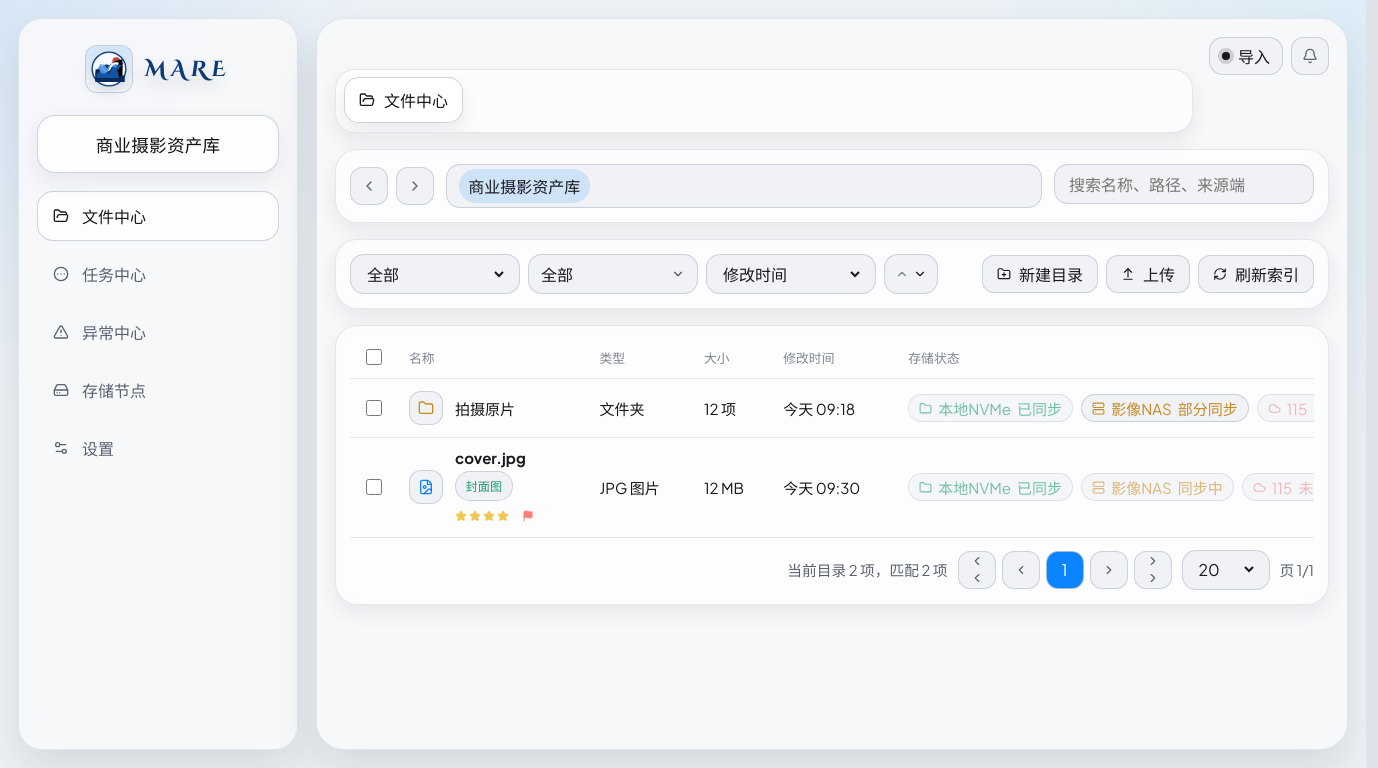
Test: App 集成流程 › 任务中心默认使用活跃中状态筛选
This screenshot has width=1378, height=768.
Click the button "任务中心" at {"x": 158, "y": 274}, box 37,249 -> 279,299
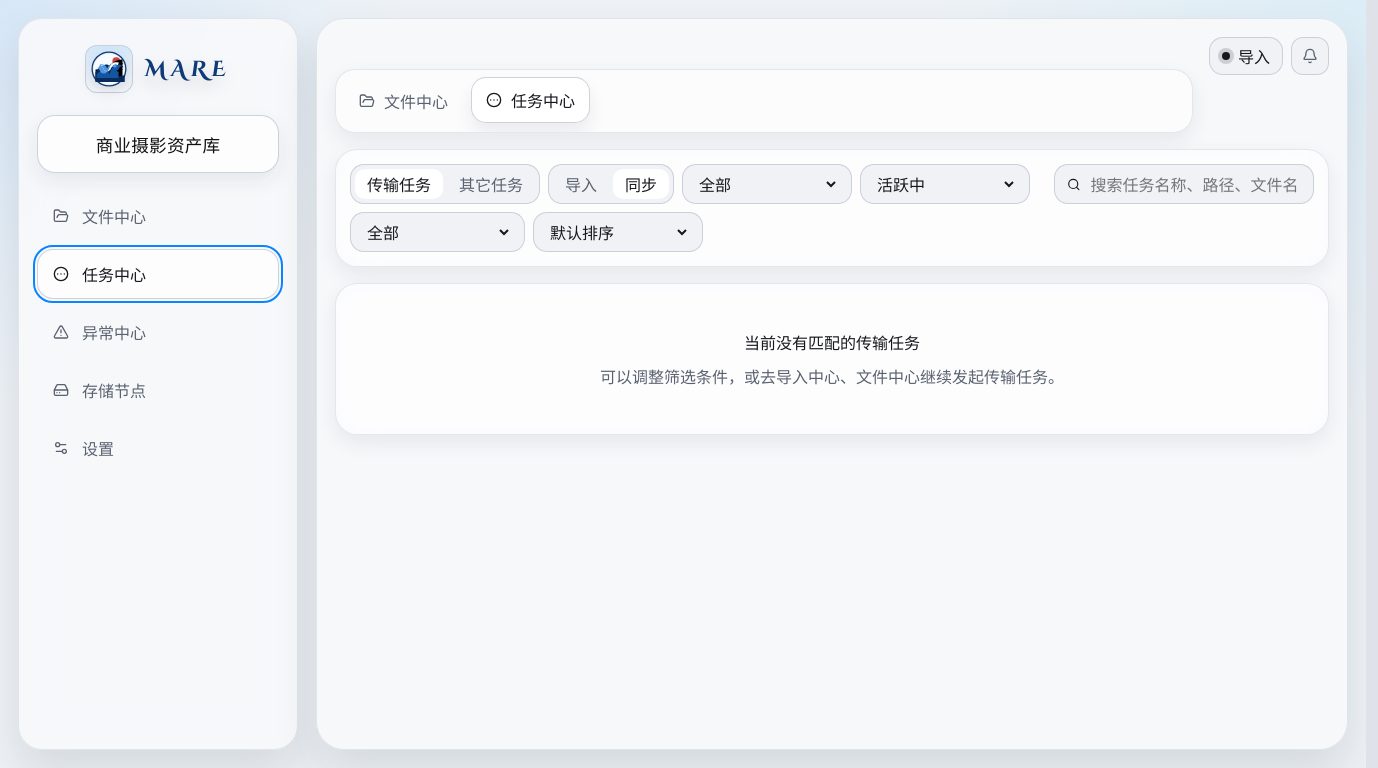
Check: the tab "任务中心" is shown, box 471,77 -> 590,123
Check: the dropdown named "任务状态" shows "活跃中", box 873,172 -> 1017,196
